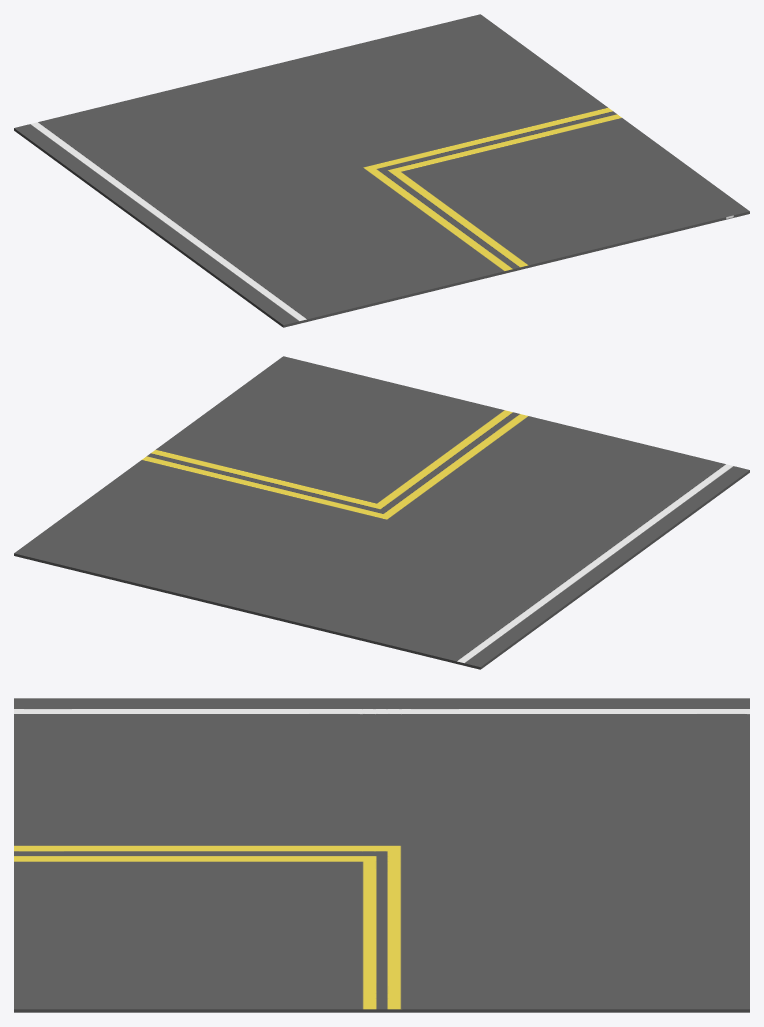
Rendered from tarmaccornner.glb.
3 renders of one model, top to bottom at view 1: azimuth 30°, elevation 25°; view 2: azimuth 150°, elevation 25°; view 3: azimuth 270°, elevation 25°, orthographic. The views are drawn at different scales.
Parts seen in each view (by area): view 1: Plane.023; view 2: Plane.023; view 3: Plane.023.
Part boxes in pixels (bbox=[...]): Plane.023: bbox=[14, 14, 749, 327]; Plane.023: bbox=[14, 356, 749, 669]; Plane.023: bbox=[14, 698, 749, 1012].
Bounding box in the file's own units: 15 × 0.0792 × 15.
1 material, 1 textured.
